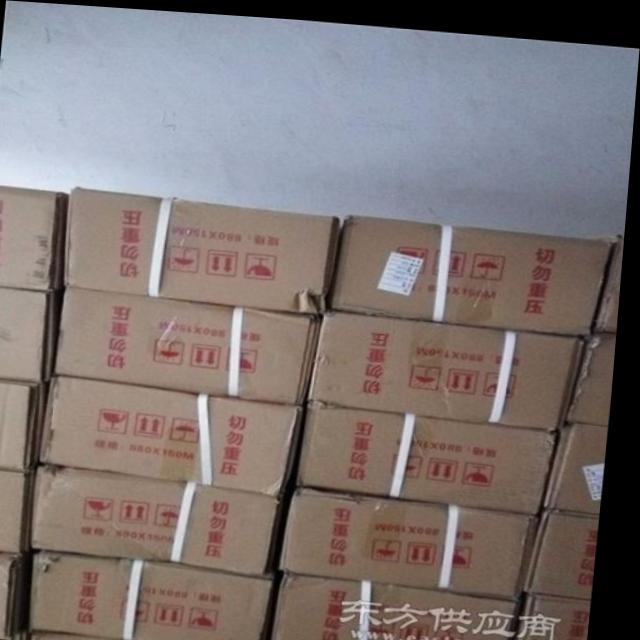box: (71, 186, 344, 310), (332, 212, 617, 327), (316, 306, 588, 423), (62, 284, 323, 402), (45, 376, 308, 493), (287, 485, 549, 593), (301, 399, 566, 505), (39, 465, 291, 572), (39, 547, 284, 640), (280, 566, 528, 640), (0, 186, 73, 292), (532, 504, 606, 591), (0, 287, 60, 386), (551, 414, 613, 506), (570, 324, 621, 414), (0, 381, 51, 470), (523, 587, 599, 640), (0, 468, 44, 558), (592, 226, 628, 325), (0, 554, 40, 639)
